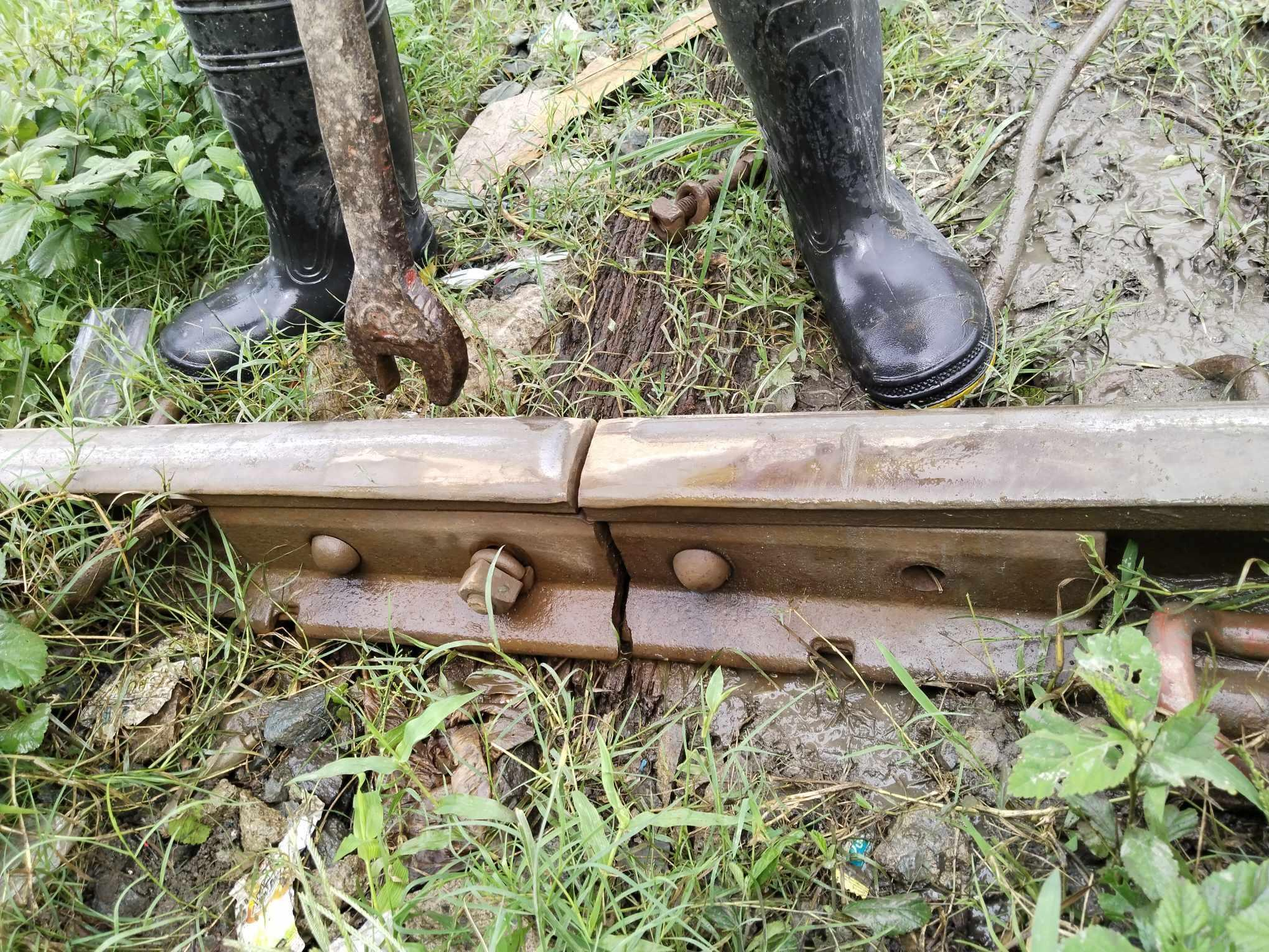railway-gap: (505, 385, 654, 523), (563, 518, 686, 664)
